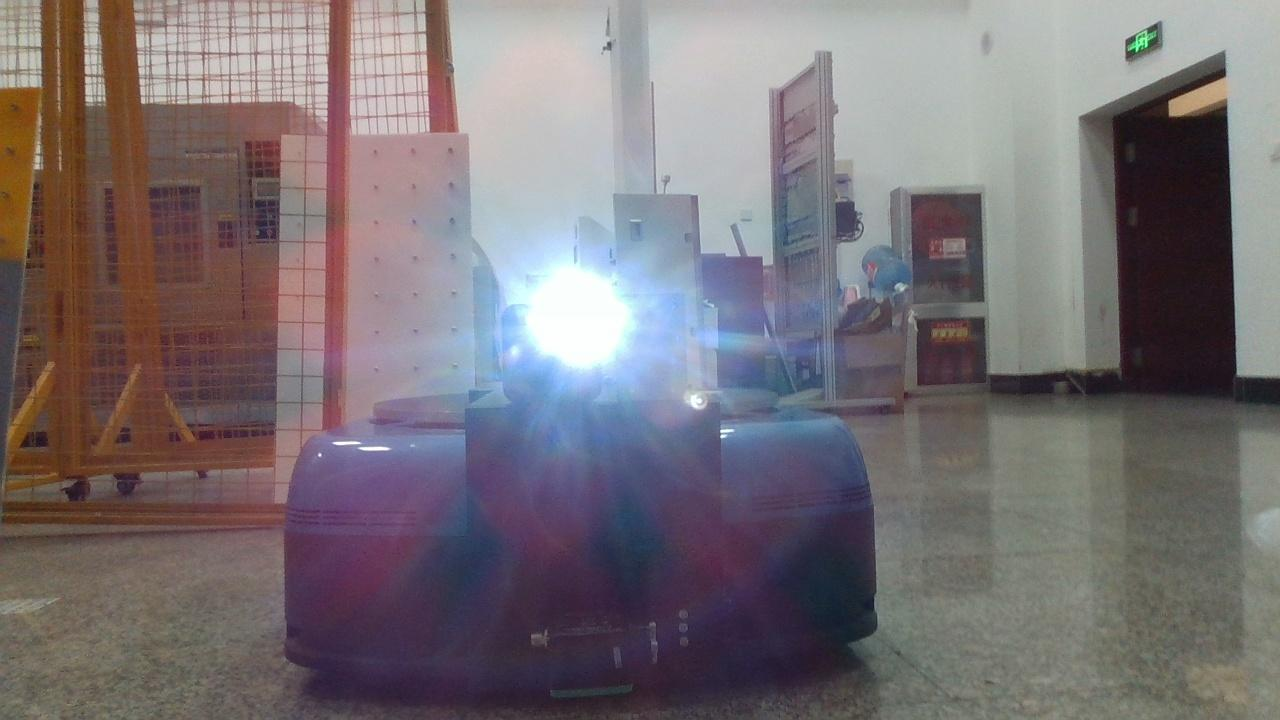AGV: (285, 390, 878, 698)
